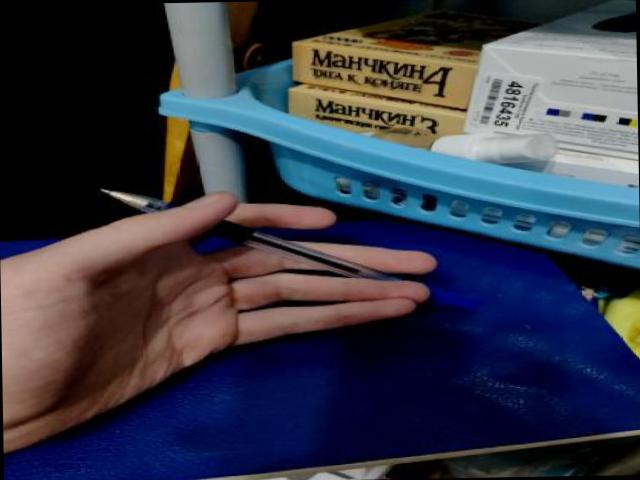PEN: (90, 171, 487, 328)
